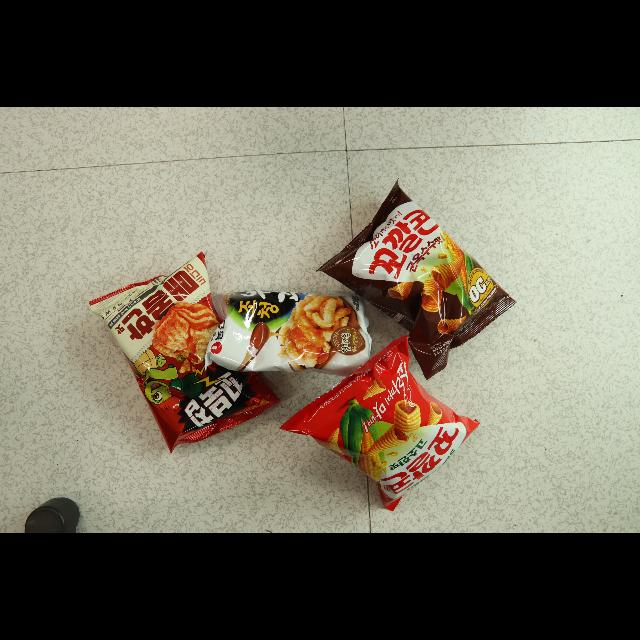bongji: (320, 181, 516, 378), (88, 250, 278, 451), (281, 336, 479, 511), (205, 291, 372, 383)
